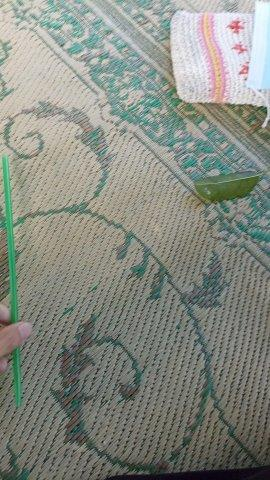sedotan: (2, 155, 20, 404)
